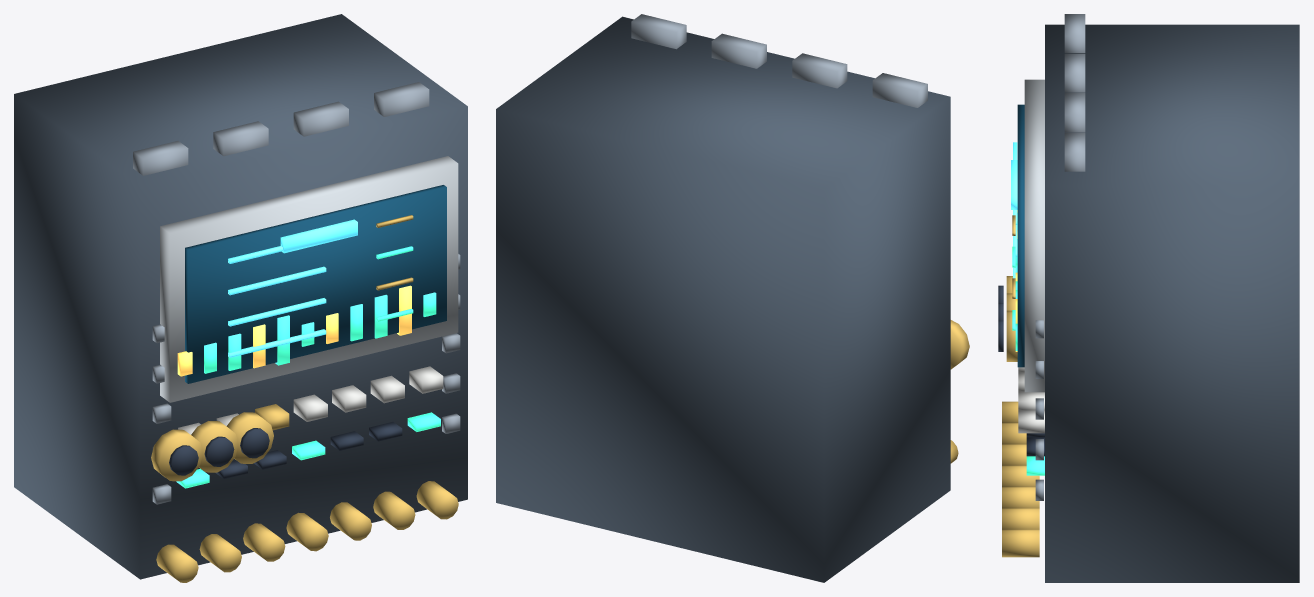
The model's file is 48_L87_AdaptiveVibrationDampingController.glb.
3 views of the same model, side by side, from view 1: azimuth 30°, elevation 25°; view 2: azimuth 150°, elevation 25°; view 3: azimuth 270°, elevation 25° (orthographic).
Visible parts, largest first — view 1: L87_AdaptiveVibrationDampingC_Part_0000, L87_AdaptiveVibrationDampingC_Part_0002, L87_AdaptiveVibrationDampingC_Part_0001, L87_AdaptiveVibrationDampingC_Part_0004, L87_AdaptiveVibrationDampingC_Part_0009, L87_AdaptiveVibrationDampingC_Part_0006, L87_AdaptiveVibrationDampingC_Part_0012, L87_AdaptiveVibrationDampingC_Part_0008, L87_AdaptiveVibrationDampingC_Part_0003, L87_AdaptiveVibrationDampingC_Part_0011, L87_AdaptiveVibrationDampingC_Part_0005, L87_AdaptiveVibrationDampingC_Part_0007 (+7 smaller); view 2: L87_AdaptiveVibrationDampingC_Part_0000, L87_AdaptiveVibrationDampingC_Part_0009, L87_AdaptiveVibrationDampingC_Part_0013; view 3: L87_AdaptiveVibrationDampingC_Part_0000, L87_AdaptiveVibrationDampingC_Part_0001, L87_AdaptiveVibrationDampingC_Part_0004, L87_AdaptiveVibrationDampingC_Part_0009, L87_AdaptiveVibrationDampingC_Part_0002, L87_AdaptiveVibrationDampingC_Part_0006, L87_AdaptiveVibrationDampingC_Part_0008, L87_AdaptiveVibrationDampingC_Part_0005, L87_AdaptiveVibrationDampingC_Part_0017.
Part boxes in pixels (x1,y1,x2,y2): L87_AdaptiveVibrationDampingC_Part_0000: (14, 14, 467, 579); L87_AdaptiveVibrationDampingC_Part_0002: (185, 185, 446, 383); L87_AdaptiveVibrationDampingC_Part_0001: (160, 156, 458, 402); L87_AdaptiveVibrationDampingC_Part_0004: (156, 215, 458, 582); L87_AdaptiveVibrationDampingC_Part_0009: (133, 82, 429, 175); L87_AdaptiveVibrationDampingC_Part_0006: (178, 366, 443, 434); L87_AdaptiveVibrationDampingC_Part_0012: (204, 292, 436, 373); L87_AdaptiveVibrationDampingC_Part_0008: (152, 254, 460, 504); L87_AdaptiveVibrationDampingC_Part_0003: (228, 246, 326, 357); L87_AdaptiveVibrationDampingC_Part_0011: (177, 285, 411, 376); L87_AdaptiveVibrationDampingC_Part_0005: (176, 246, 440, 488); L87_AdaptiveVibrationDampingC_Part_0007: (215, 422, 402, 478); L87_AdaptiveVibrationDampingC_Part_0000: (496, 16, 950, 582); L87_AdaptiveVibrationDampingC_Part_0009: (631, 14, 927, 107); L87_AdaptiveVibrationDampingC_Part_0013: (950, 320, 969, 369); L87_AdaptiveVibrationDampingC_Part_0000: (1045, 24, 1299, 582); L87_AdaptiveVibrationDampingC_Part_0001: (1024, 79, 1044, 392); L87_AdaptiveVibrationDampingC_Part_0004: (1002, 215, 1039, 557); L87_AdaptiveVibrationDampingC_Part_0009: (1064, 14, 1085, 171); L87_AdaptiveVibrationDampingC_Part_0002: (1017, 104, 1024, 367); L87_AdaptiveVibrationDampingC_Part_0006: (1018, 367, 1044, 433); L87_AdaptiveVibrationDampingC_Part_0008: (1035, 320, 1043, 500); L87_AdaptiveVibrationDampingC_Part_0005: (1012, 246, 1044, 475); L87_AdaptiveVibrationDampingC_Part_0017: (1006, 310, 1017, 361).
Bounding box in the file's own units: 0.9695 × 1.16 × 0.765.
